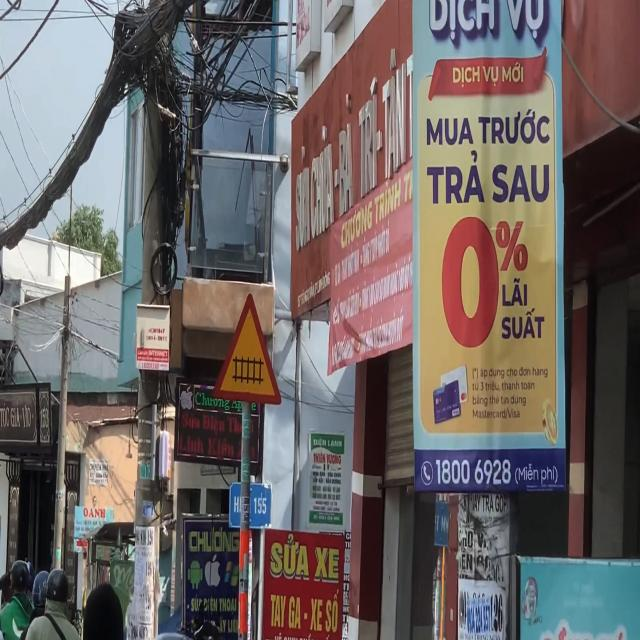Nguy hiem: (212, 291, 284, 414)
